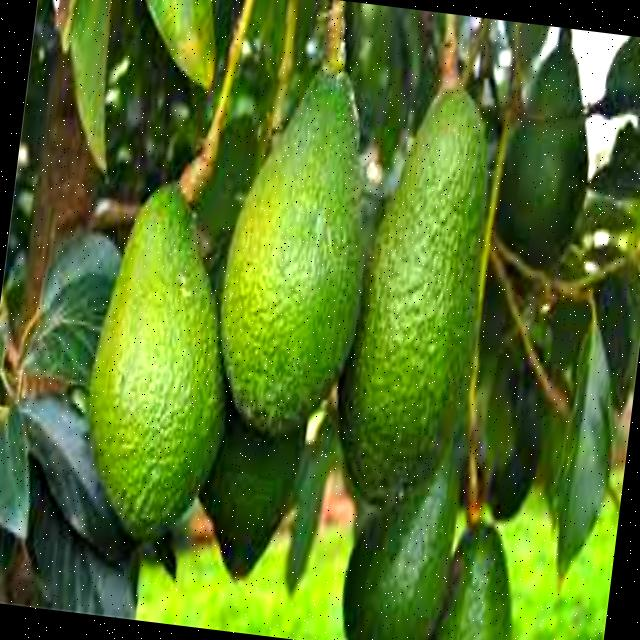fruit: (220, 70, 362, 441), (88, 185, 226, 540)
leaf: (17, 398, 139, 571), (545, 323, 611, 579), (29, 237, 117, 387), (286, 421, 335, 593), (70, 0, 112, 172), (145, 0, 216, 93)
occludedfruit: (339, 86, 484, 503), (343, 464, 456, 640), (203, 431, 297, 580), (497, 118, 587, 254), (432, 524, 510, 640), (493, 383, 545, 521), (531, 41, 581, 116)
occludedpeduncle: (260, 0, 299, 149)
peduncle: (182, 0, 254, 209), (320, 0, 345, 76), (442, 13, 459, 91)
